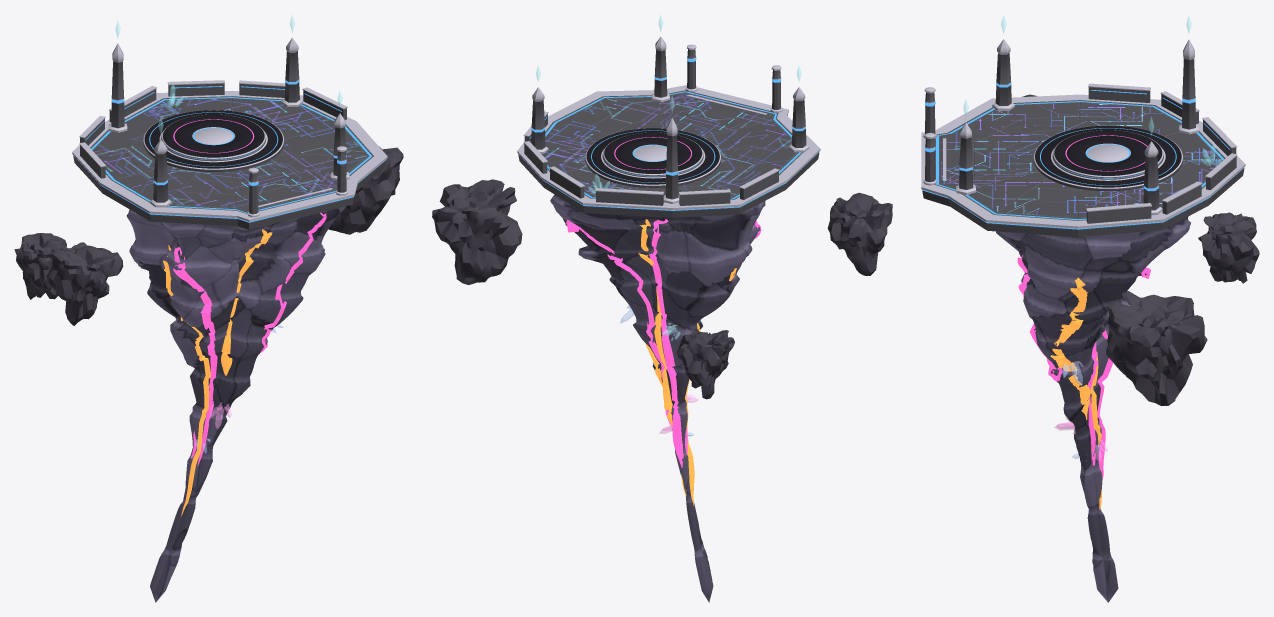
File: Island_02_quest.glb
3 renders of one model, left to right at view 1: azimuth 30°, elevation 25°; view 2: azimuth 150°, elevation 25°; view 3: azimuth 270°, elevation 25°, orthographic. The views are drawn at different scales.
Parts seen in each view (by area): view 1: Island_02_Rock, Island_02_Deck, Island_02, Island_02_Architecture, Island_02_Plaza, Island_02_Veins; view 2: Island_02_Deck, Island_02_Rock, Island_02, Island_02_Architecture, Island_02_Plaza, Island_02_Veins; view 3: Island_02_Deck, Island_02_Rock, Island_02, Island_02_Architecture, Island_02_Plaza, Island_02_Veins.
Boxes of the visible parts, x1,y1,x2,y2 form: Island_02_Rock: [126, 206, 345, 602]; Island_02_Deck: [72, 90, 387, 229]; Island_02: [14, 84, 403, 453]; Island_02_Architecture: [79, 15, 349, 217]; Island_02_Plaza: [143, 110, 284, 171]; Island_02_Veins: [163, 212, 326, 515]; Island_02_Deck: [517, 85, 820, 217]; Island_02_Rock: [550, 194, 765, 602]; Island_02: [432, 174, 892, 441]; Island_02_Architecture: [523, 15, 809, 205]; Island_02_Plaza: [585, 128, 720, 187]; Island_02_Veins: [566, 219, 761, 506]; Island_02_Deck: [921, 94, 1245, 237]; Island_02_Rock: [996, 217, 1190, 602]; Island_02: [1022, 94, 1259, 462]; Island_02_Architecture: [923, 15, 1237, 223]; Island_02_Plaza: [1033, 125, 1182, 191]; Island_02_Veins: [1017, 255, 1150, 509].
Bounding box in the file's own units: 30.89 × 40.29 × 20.99.
Materials: 13 (1 with a texture image).
